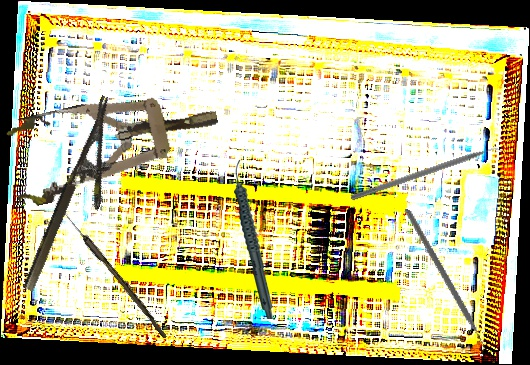Chopper: (359, 208, 528, 360), (349, 141, 510, 210)
Handpiece: (231, 159, 276, 320)
Needle Holder: (20, 95, 141, 303)
Speculum: (0, 75, 228, 210)
Surgical Spoon: (52, 201, 171, 339)
